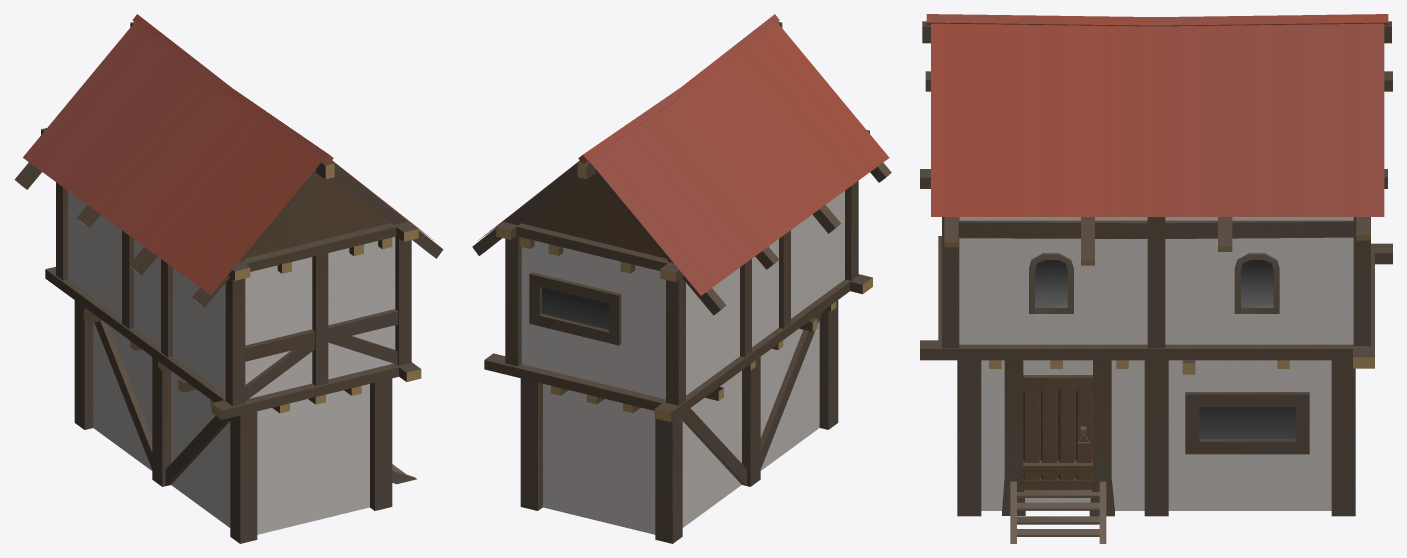
File: House_1_LOD1.fbx
3 views of the same model, side by side, from view 1: azimuth 30°, elevation 25°; view 2: azimuth 150°, elevation 25°; view 3: azimuth 270°, elevation 25° (orthographic). The views are drawn at different scales.
Parts seen in each view (by area): view 1: polySurface9732; view 2: polySurface9732; view 3: polySurface9732.
Part boxes in pixels (box(x1,y1,x2,y2)): polySurface9732: box(14, 14, 443, 543); polySurface9732: box(472, 14, 891, 543); polySurface9732: box(920, 14, 1392, 543).
Bounding box in the file's own units: 585 × 809 × 758.
